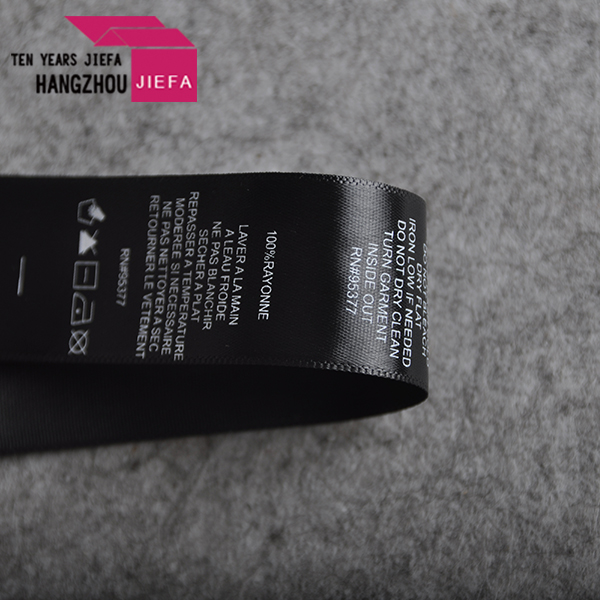do_not_dry_clean: (66, 325, 91, 356)
